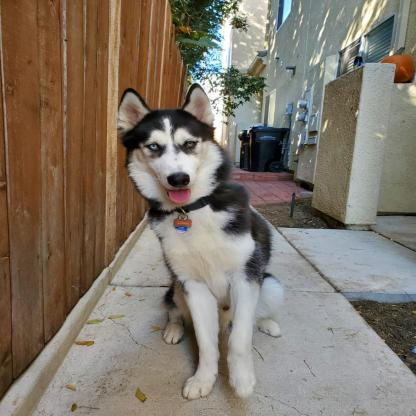husky: (111, 87, 288, 400)
